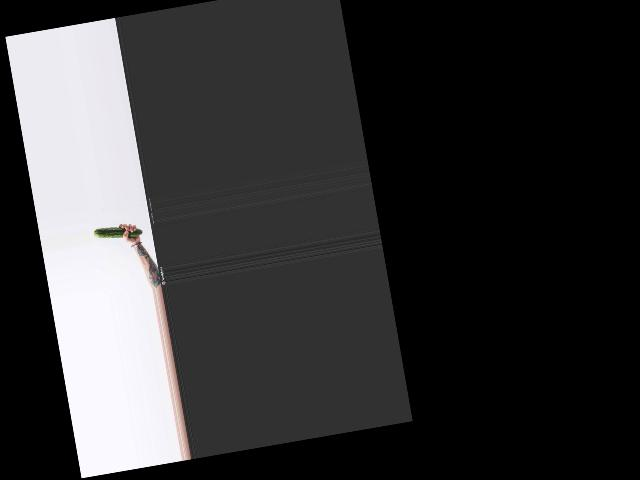cucumber: (92, 221, 142, 243)
